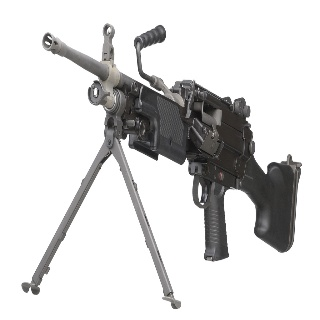rifle: (21, 21, 301, 311)
